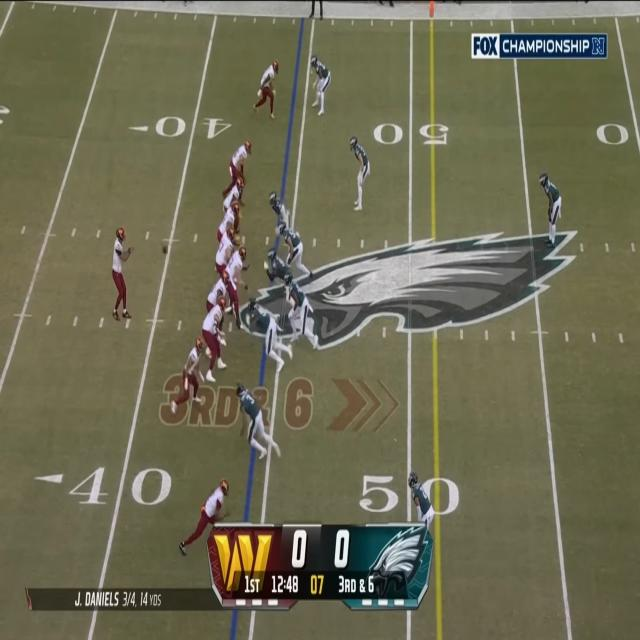Ball: (162, 243, 168, 254)
